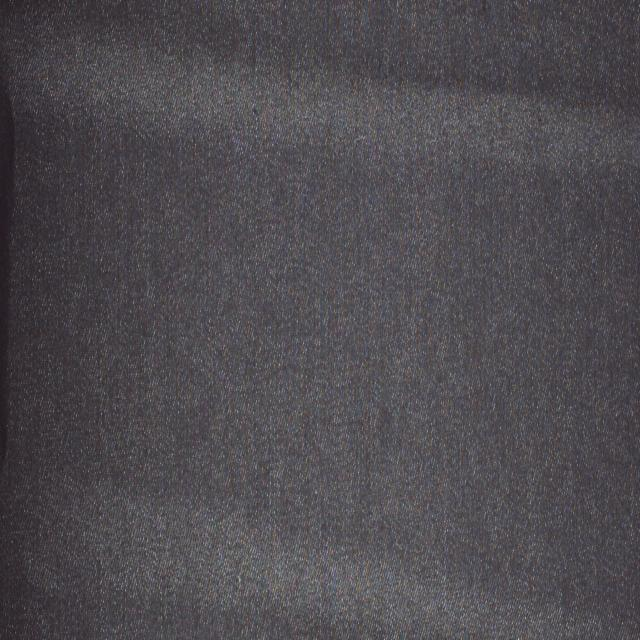Stain: (0, 74, 14, 470)
